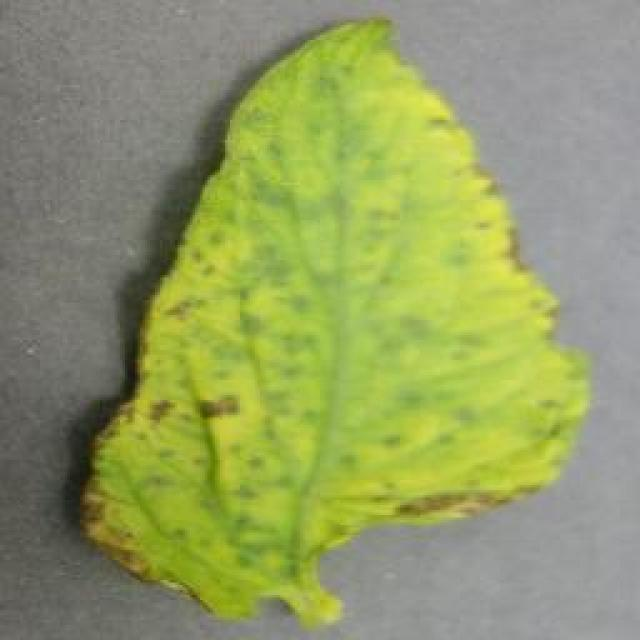Tomato yellow virus leaf: (84, 15, 596, 615)
